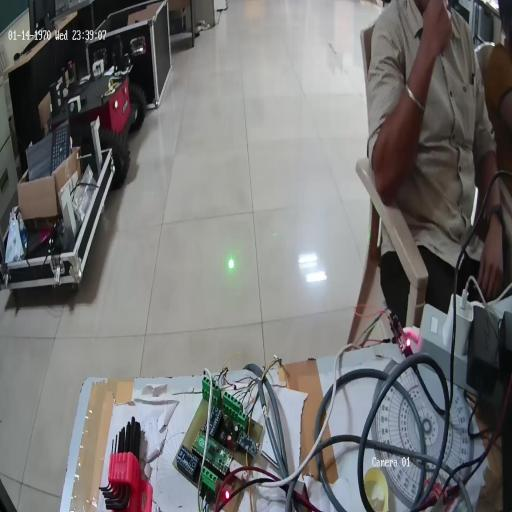laser: (224, 250, 237, 273)
